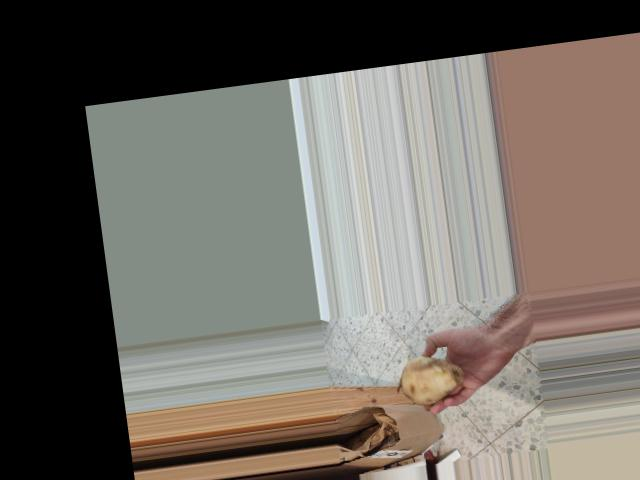onion: (394, 348, 470, 412)
